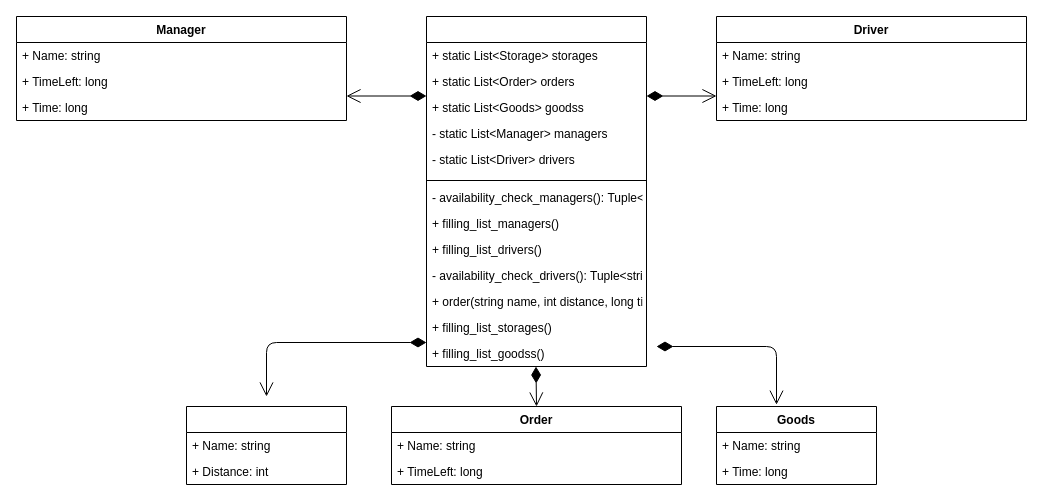
Image size: 1043x501. Some labels were removed from this diagram. The box of each missing label's shape, as (x1, y1, x2, y2) in pixels:
Main: (426, 16, 646, 366)
Storage: (186, 406, 346, 484)
